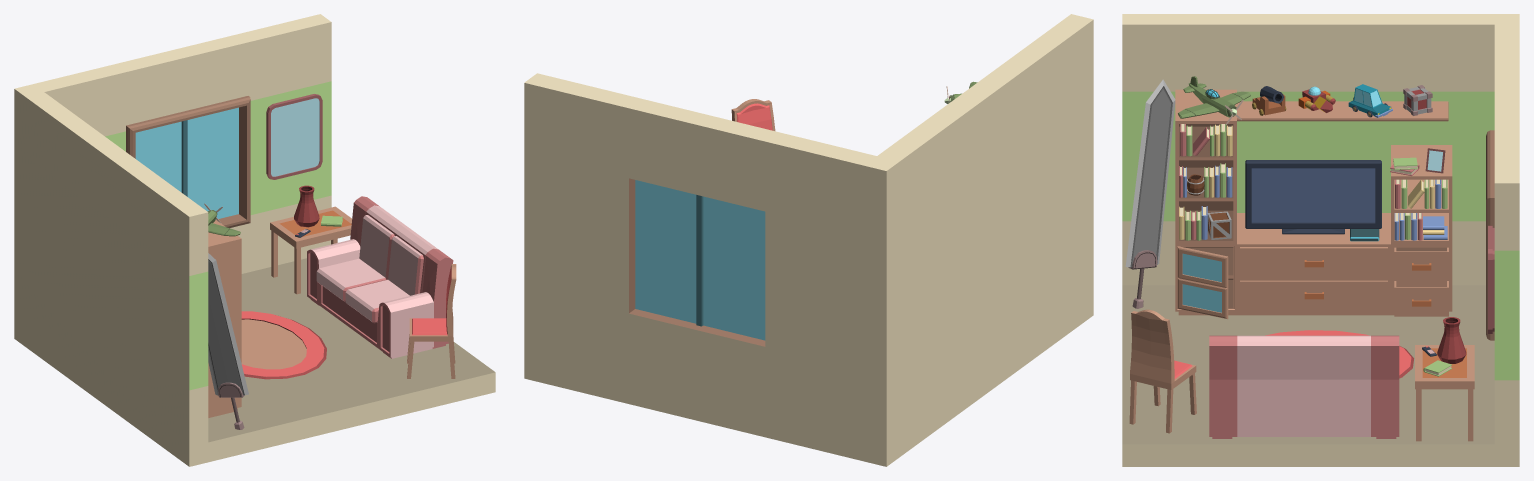
File: low_poly_living_room.glb
3 views of the same model, side by side, from view 1: azimuth 30°, elevation 25°; view 2: azimuth 150°, elevation 25°; view 3: azimuth 270°, elevation 25° (orthographic). The views are drawn at different scales.
Visible parts, largest first — view 1: Cube; view 2: Cube; view 3: Cube.
Boxes of the visible parts, box(x1,y1,x2,y2) form: Cube: box(14, 14, 495, 466); Cube: box(524, 14, 1093, 466); Cube: box(1122, 14, 1519, 466).
Size of the model in its own units: 1080 by 842 by 1070.
1 material, 1 textured.
